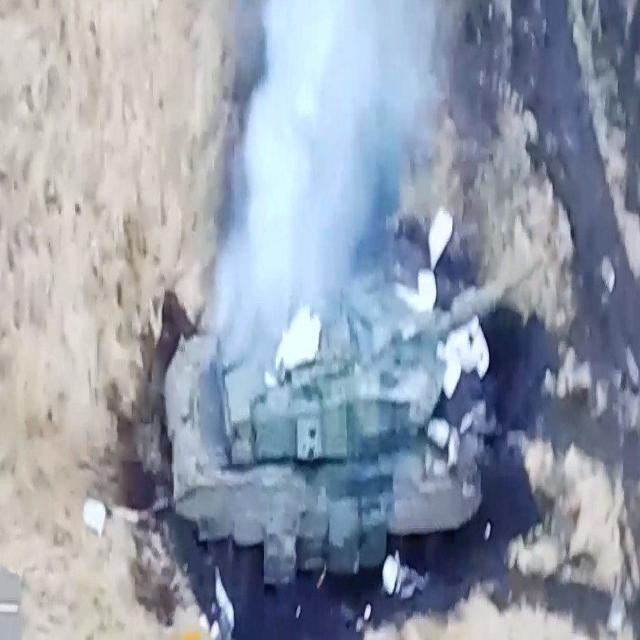MBT: (165, 215, 545, 592)
